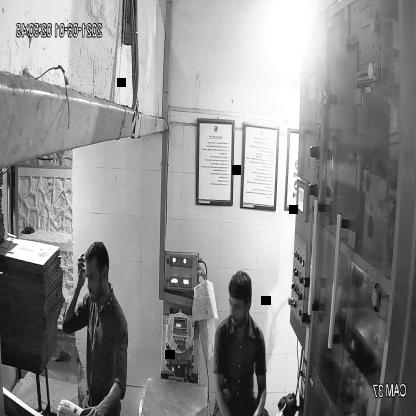no_goggles: (82, 264, 116, 288), (225, 293, 256, 316)
